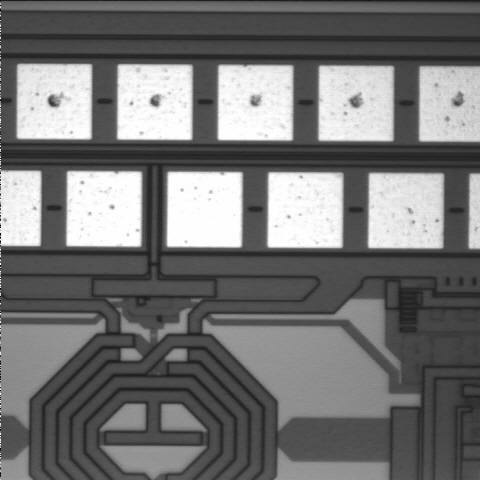pad: (66, 171, 142, 247), (267, 172, 343, 248), (117, 64, 192, 140), (218, 65, 293, 141), (167, 172, 242, 248), (17, 64, 92, 139), (318, 66, 393, 141), (368, 173, 443, 248)
